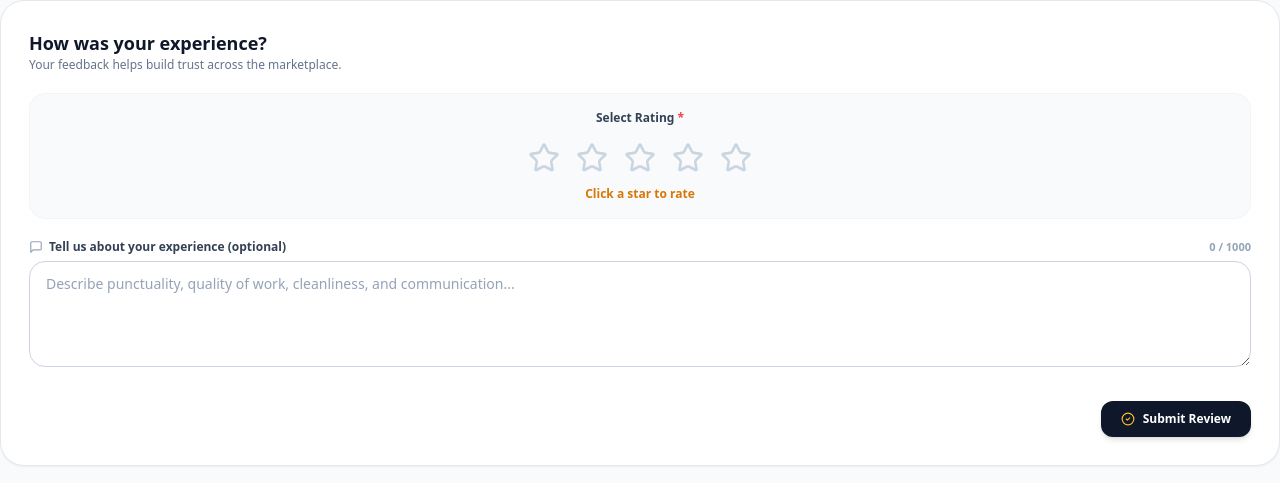
Scenario: Customer Reviews & Reputation Web Experience (Phase 8D-2 Audit Suite) › ReviewForm Component › 3. rating selection works and updates aria-checked
Click the radio button named "4 Star".
click(688, 158)  # box [668,138,708,178]
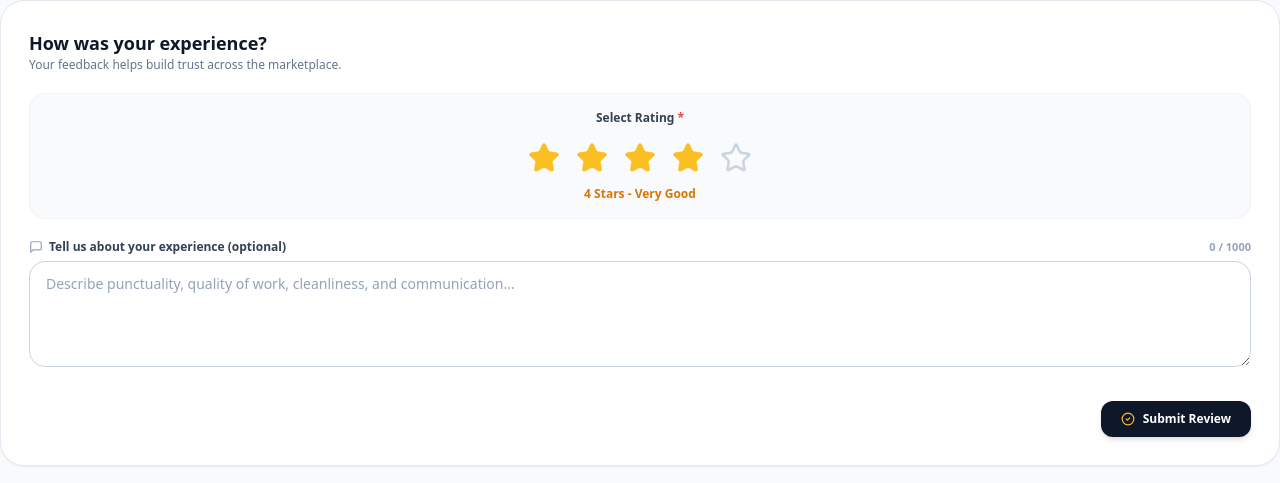
Now the text "4 Stars - Very Good" is shown, box [584,185,696,202]
